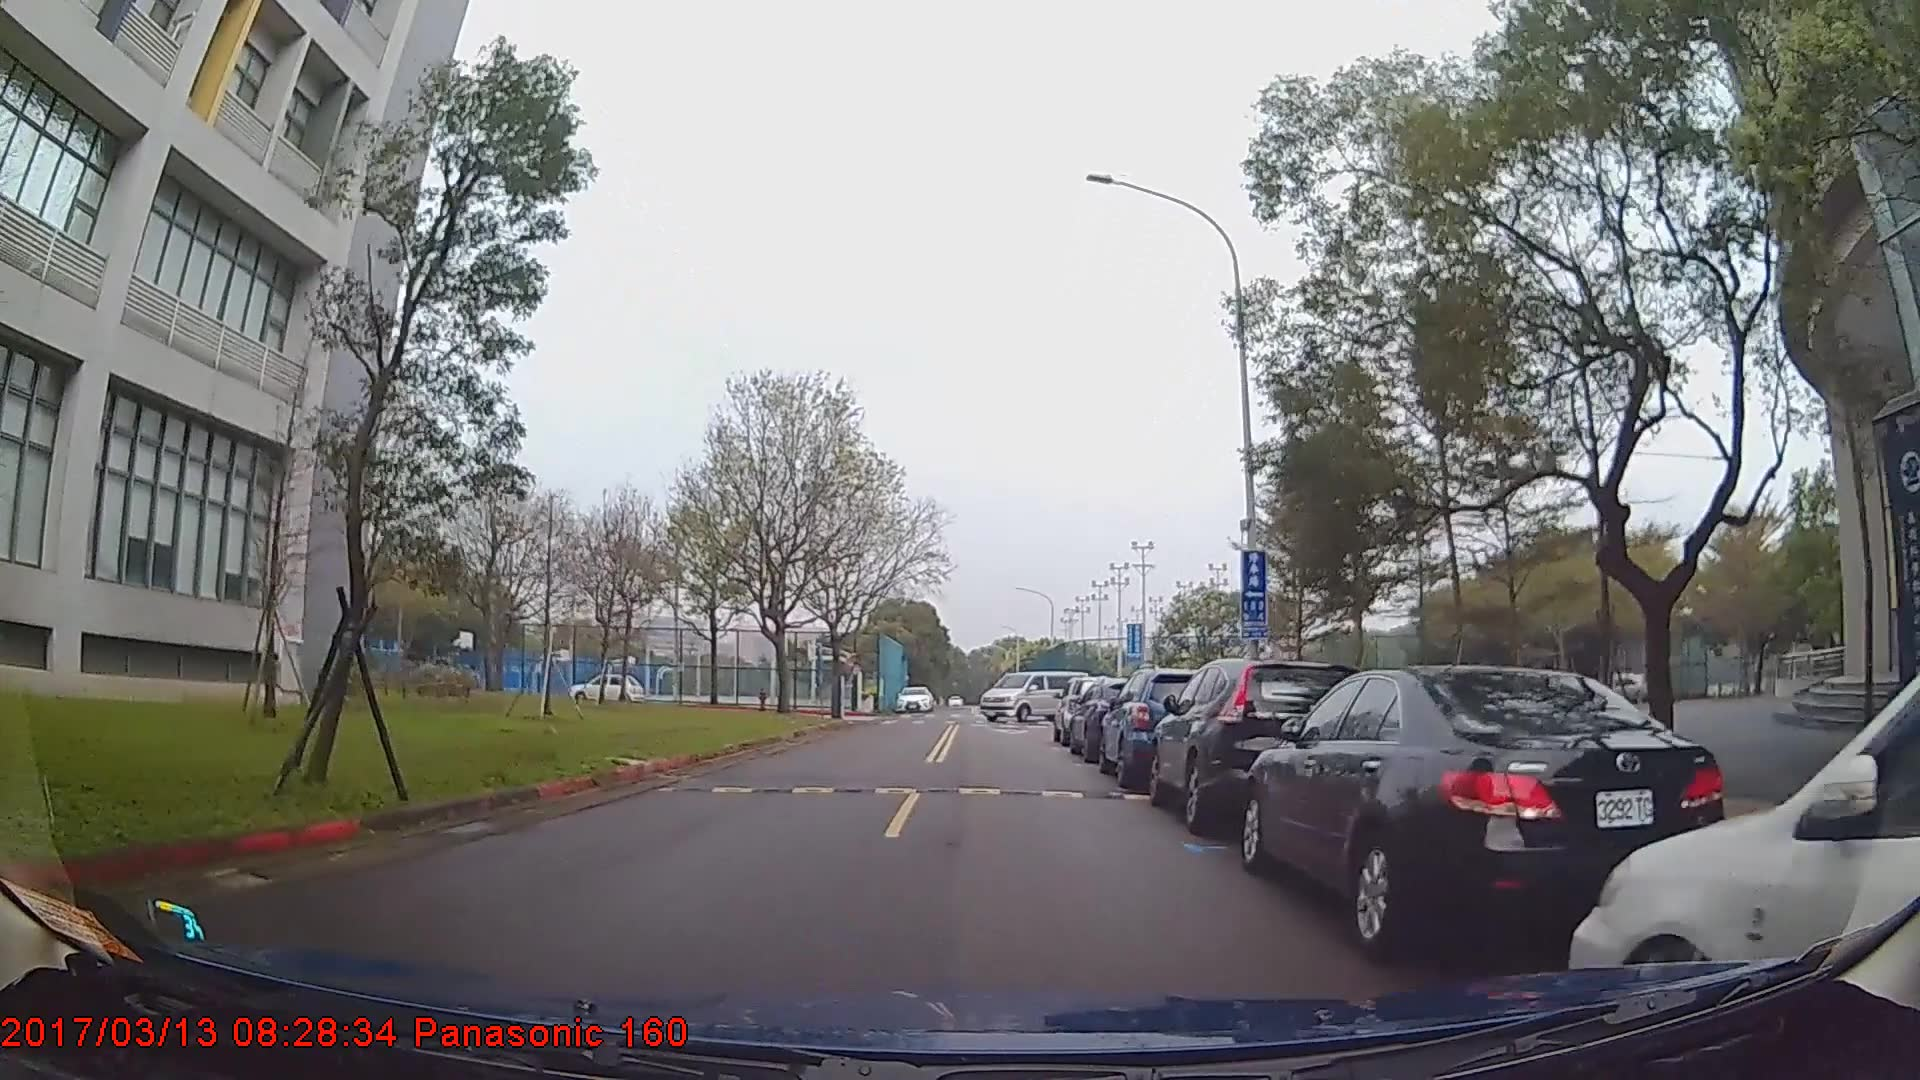vehicle: (1240, 662, 1731, 965), (1571, 675, 1920, 1042), (1146, 654, 1367, 829), (1098, 665, 1218, 786), (980, 669, 1091, 720), (566, 671, 644, 702), (894, 684, 935, 712)
